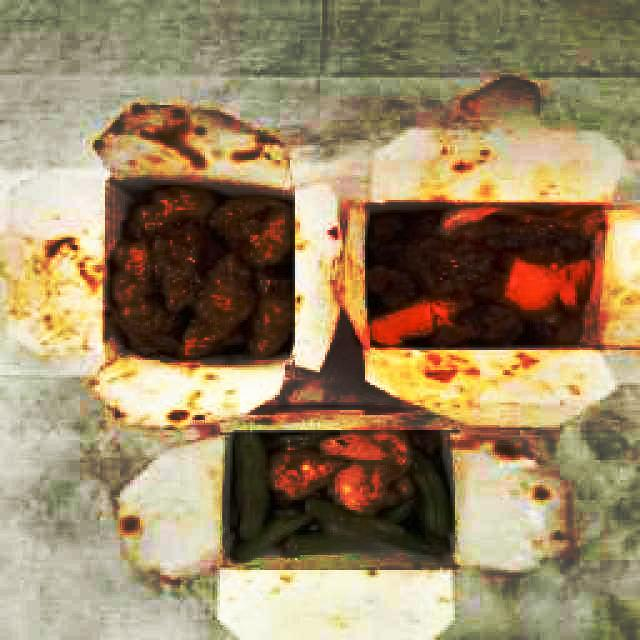Beijing Beef: (363, 198, 607, 348)
Kung Pao Chicken: (104, 182, 295, 362)
tostitos cheese dip sauce: (230, 429, 450, 562)
